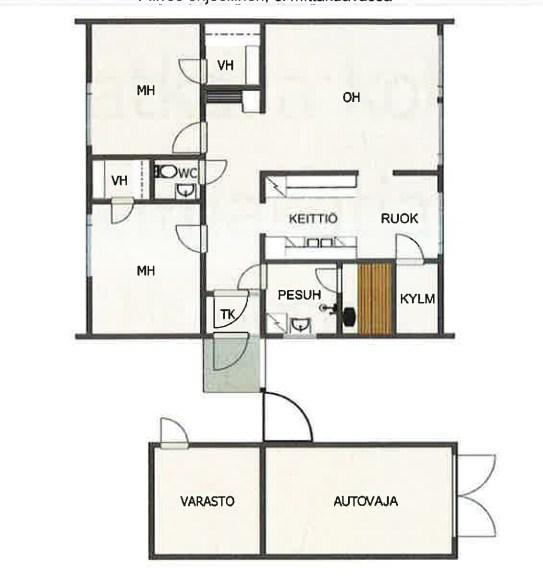bathroom: (265, 265, 337, 335), (152, 158, 201, 201)
door: (263, 387, 315, 448), (451, 496, 497, 539), (451, 453, 495, 497), (210, 329, 252, 373), (211, 288, 252, 328), (170, 119, 211, 155), (158, 416, 191, 453), (174, 222, 209, 256), (394, 233, 426, 268), (176, 55, 209, 84), (313, 267, 347, 295), (198, 159, 231, 186), (110, 195, 139, 225), (237, 264, 270, 287)
perimeter: (85, 19, 444, 338), (149, 444, 458, 561)
window: (436, 98, 449, 172), (435, 31, 448, 103), (433, 186, 446, 258), (83, 77, 95, 151), (83, 207, 93, 286), (281, 330, 321, 343)
